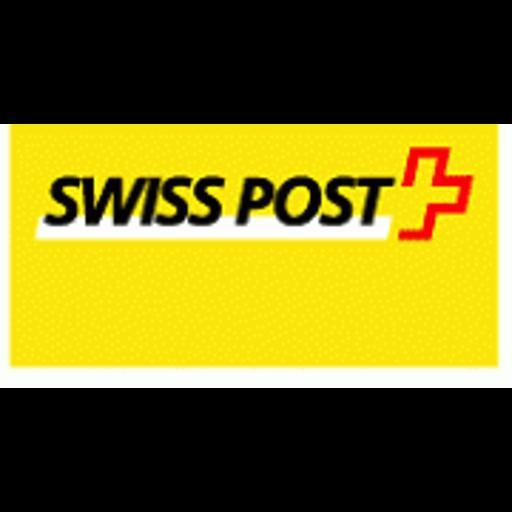Swiss Post: (0, 124, 512, 388)
